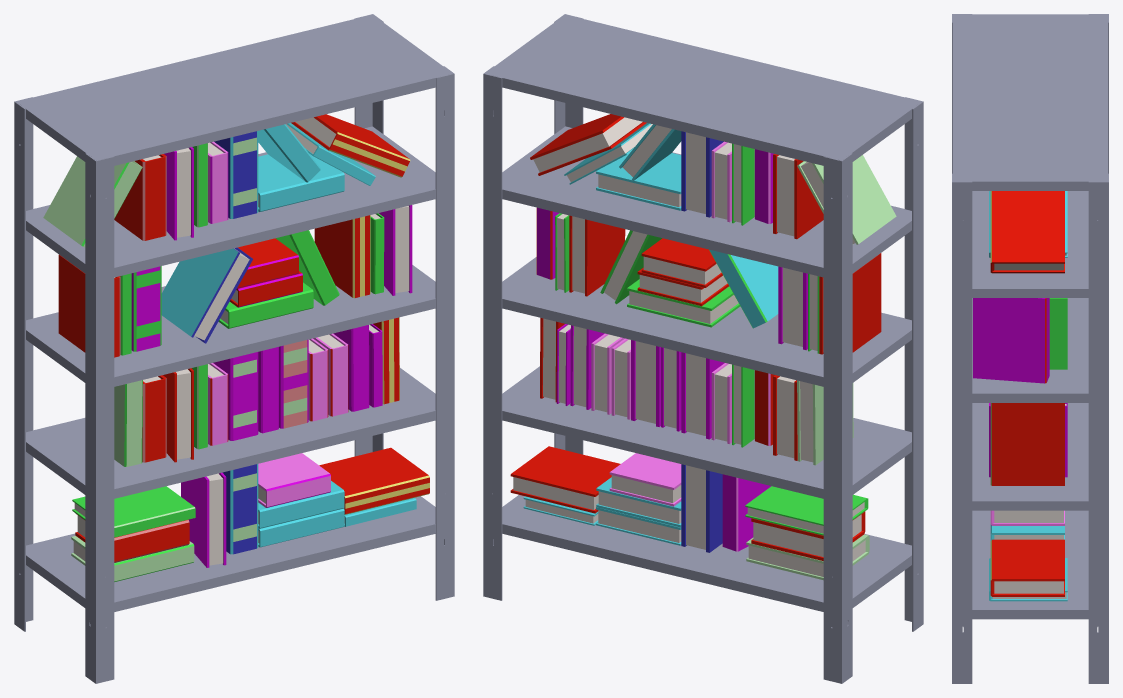
File: PrateleiraDeLivros.fbx
3 renders of one model, left to right at view 1: azimuth 30°, elevation 25°; view 2: azimuth 150°, elevation 25°; view 3: azimuth 270°, elevation 25°, orthographic. The views are drawn at different scales.
Visible parts, largest first — view 1: Cube.001, Cube, Cube.003, Cube.005, Cube.004, Cube.002; view 2: Cube.001, Cube, Cube.005, Cube.003, Cube.004, Cube.002; view 3: Cube.001, Cube, Cube.003, Cube.005, Cube.004, Cube.002.
Part boxes in pixels (x1=…): Cube.001: x1=16, y1=14, x2=452, y2=611; Cube: x1=14, y1=14, x2=454, y2=683; Cube.003: x1=58, y1=205, x2=412, y2=357; Cube.005: x1=71, y1=447, x2=429, y2=581; Cube.004: x1=114, y1=317, x2=399, y2=466; Cube.002: x1=43, y1=114, x2=410, y2=247; Cube.001: x1=485, y1=14, x2=921, y2=611; Cube: x1=483, y1=14, x2=923, y2=683; Cube.005: x1=510, y1=446, x2=869, y2=580; Cube.003: x1=536, y1=207, x2=881, y2=354; Cube.004: x1=540, y1=318, x2=853, y2=465; Cube.002: x1=530, y1=114, x2=896, y2=244; Cube.001: x1=953, y1=14, x2=1107, y2=619; Cube: x1=952, y1=14, x2=1108, y2=683; Cube.003: x1=973, y1=298, x2=1067, y2=383; Cube.005: x1=989, y1=510, x2=1067, y2=601; Cube.004: x1=989, y1=403, x2=1067, y2=485; Cube.002: x1=989, y1=191, x2=1067, y2=273.
Size of the model in its own units: 671 by 934 by 265.
